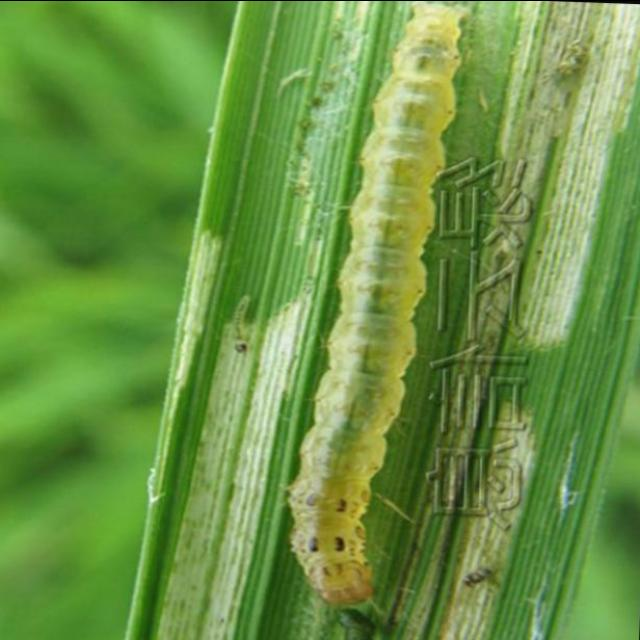leaf folder: (289, 0, 466, 604)
